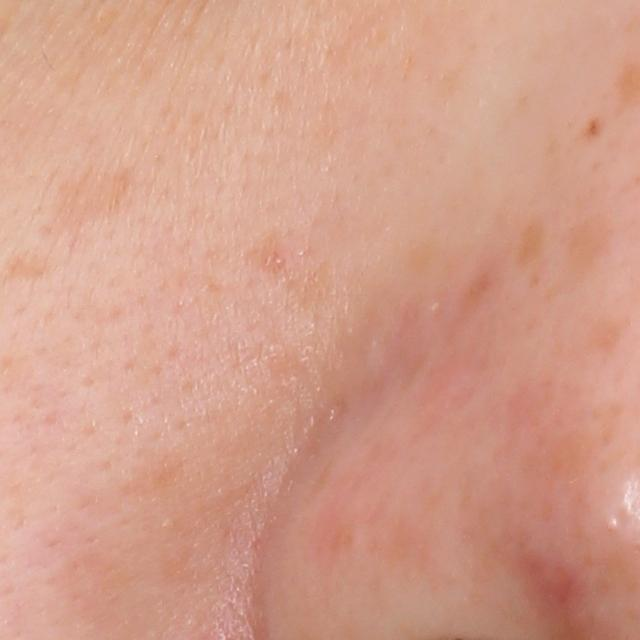melasma: (28, 164, 144, 236), (516, 425, 599, 483), (561, 218, 614, 284), (516, 194, 544, 268)
